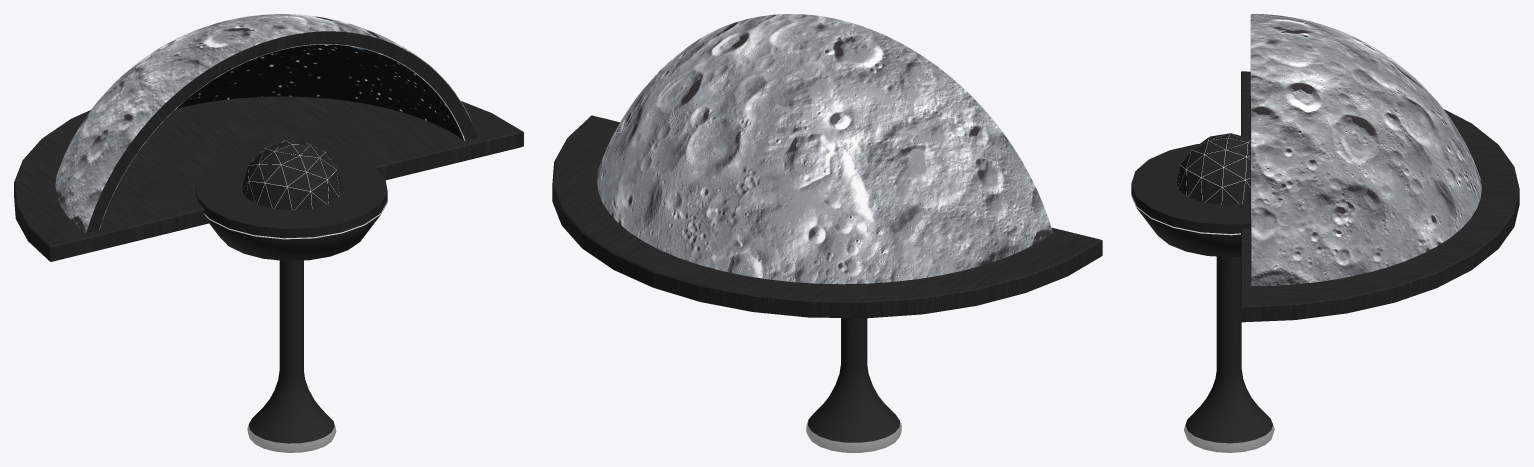
The model's file is uxart_teleporter.glb.
3 renders of one model, left to right at view 1: azimuth 30°, elevation 25°; view 2: azimuth 150°, elevation 25°; view 3: azimuth 270°, elevation 25°, orthographic. The views are drawn at different scales.
Visible parts, largest first — view 1: Cupula_principal.001, Cylinder.239, LoPolyDisk.001, LoPolySphere.001; view 2: Cupula_principal.001, Cylinder.239, LoPolyDisk.001; view 3: Cupula_principal.001, Cylinder.239, LoPolyDisk.001, LoPolySphere.001.
Boxes of the visible parts, x1,y1,x2,y2 form: Cupula_principal.001: (55, 14, 477, 232); Cylinder.239: (14, 96, 523, 261); LoPolyDisk.001: (195, 150, 387, 452); LoPolySphere.001: (241, 140, 342, 210); Cupula_principal.001: (597, 14, 1052, 284); Cylinder.239: (552, 115, 1102, 318); LoPolyDisk.001: (806, 318, 901, 452); Cupula_principal.001: (1250, 14, 1481, 285); Cylinder.239: (1241, 71, 1519, 322); LoPolyDisk.001: (1131, 144, 1274, 452); LoPolySphere.001: (1176, 133, 1250, 204).
Size of what is drawn, in the model's own units: 2.13 by 1.68 by 1.48.
4 materials, 4 textured.
